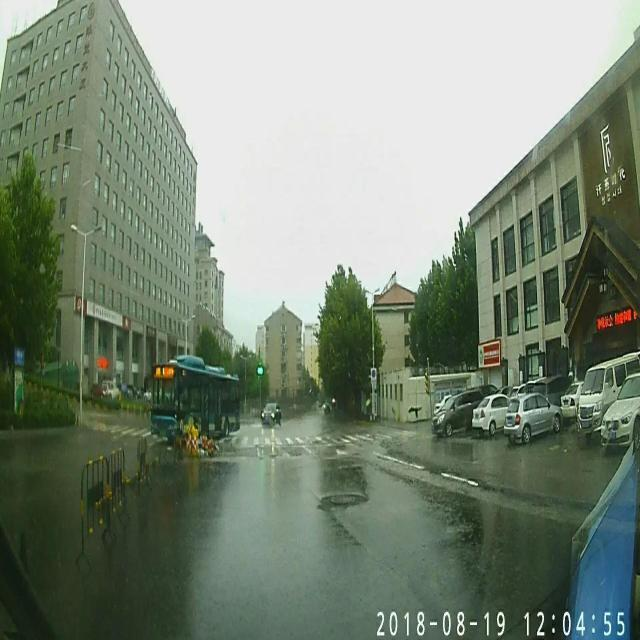car: (574, 348, 638, 438), (502, 389, 564, 444), (430, 382, 488, 436), (471, 393, 522, 436), (260, 401, 282, 425)
